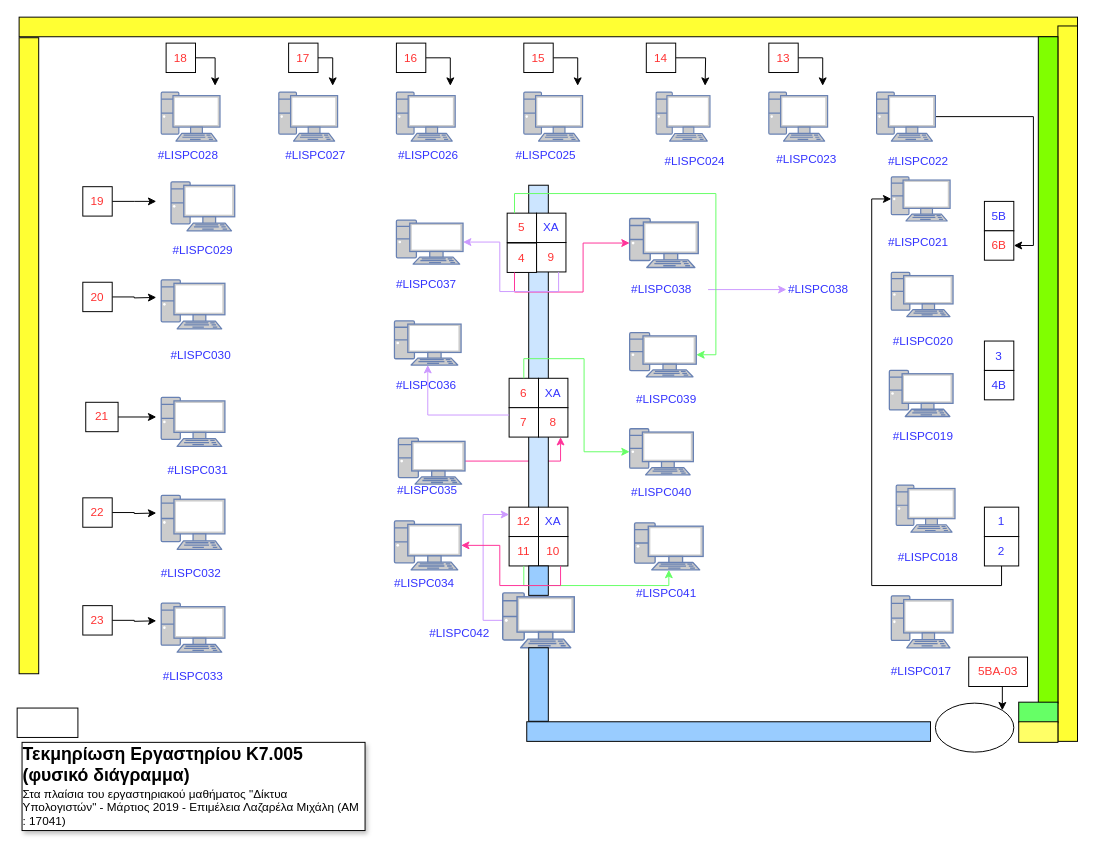
This 1095x856 diagram has some shape labels left out. The shapes that lost their labels are listed below. From the top down, each one's centre as x and y in pixels, then its label:
At (47,722): "5ΒΑ-14".
At (974,727): "Rack (Σελ.2)".
